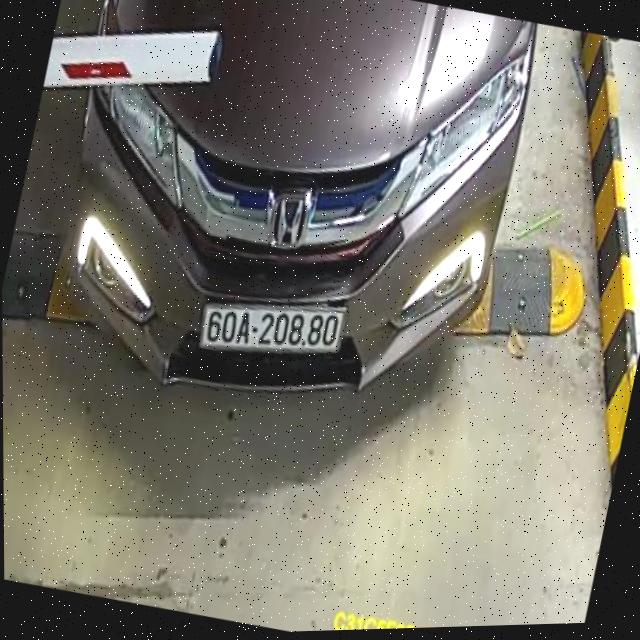car: (14, 0, 552, 465)
plate: (199, 284, 352, 370)
